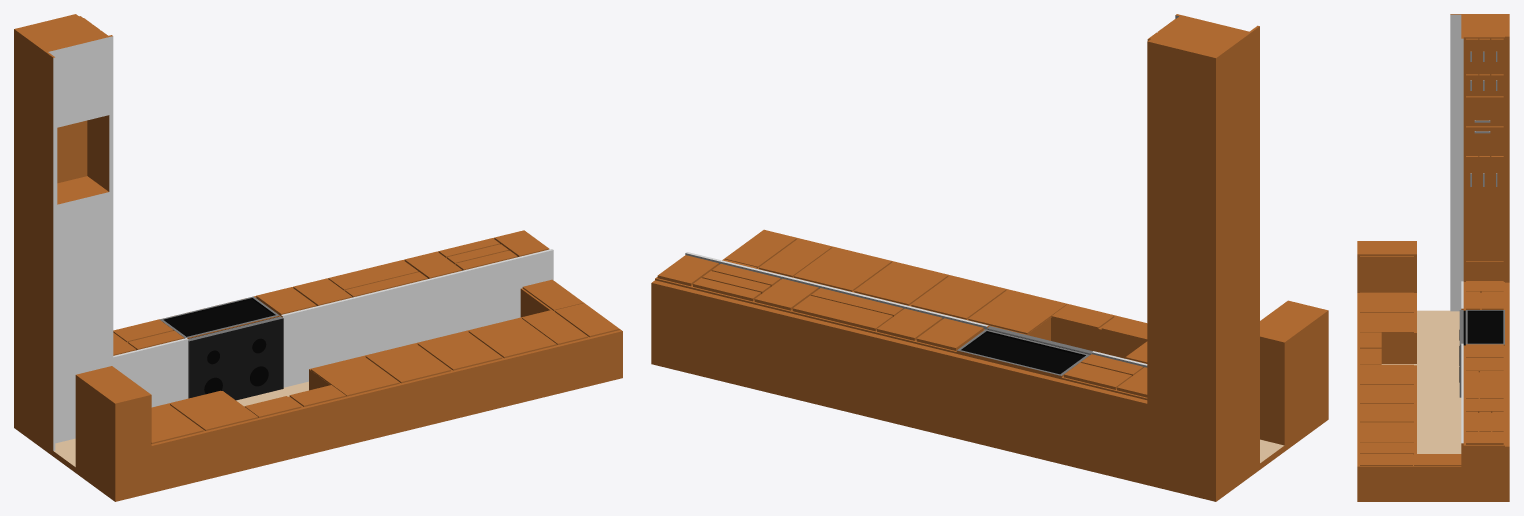
File: cabinets_0515.obj
3 views of the same model, side by side, from view 1: azimuth 30°, elevation 25°; view 2: azimuth 150°, elevation 25°; view 3: azimuth 270°, elevation 25° (orthographic). The views are drawn at different scales.
Visible parts, largest first — view 1: mesh32, mesh17, mesh31, mesh39, mesh2, mesh25, mesh66, mesh100, mesh48, mesh115, mesh93, mesh105 (+18 smaller); view 2: mesh28, mesh31, mesh34, mesh25, mesh66, mesh100, mesh115, mesh105, mesh67, mesh110, mesh27, mesh33 (+13 smaller); view 3: mesh30, mesh35, mesh175, mesh18, mesh60, mesh26, mesh25, mesh66, mesh44, mesh220, mesh229, mesh48 (+40 smaller).
Boxes of the visible parts, <box> form: mesh32: <box>115,331,622,501</box>; mesh17: <box>48,36,188,443</box>; mesh31: <box>14,29,115,501</box>; mesh39: <box>282,250,553,387</box>; mesh2: <box>189,318,283,400</box>; mesh25: <box>14,14,112,57</box>; mesh66: <box>165,299,273,336</box>; mesh100: <box>311,356,399,395</box>; mesh48: <box>170,391,257,429</box>; mesh115: <box>469,318,556,356</box>; mesh93: <box>151,285,622,445</box>; mesh105: <box>366,344,450,381</box>; mesh28: <box>651,41,1215,501</box>; mesh31: <box>1216,26,1328,501</box>; mesh34: <box>1260,336,1284,445</box>; mesh25: <box>1147,14,1259,57</box>; mesh66: <box>963,333,1084,374</box>; mesh100: <box>968,289,1066,332</box>; mesh115: <box>794,247,891,290</box>; mesh105: <box>911,276,1005,318</box>; mesh67: <box>1051,316,1147,358</box>; mesh110: <box>855,262,947,304</box>; mesh27: <box>652,280,1147,403</box>; mesh33: <box>1260,300,1327,342</box>; mesh30: <box>1357,443,1509,501</box>; mesh35: <box>1381,310,1461,453</box>; mesh175: <box>1463,37,1504,281</box>; mesh18: <box>1450,14,1461,311</box>; mesh60: <box>1360,256,1413,291</box>; mesh26: <box>1505,36,1509,282</box>; mesh25: <box>1450,14,1509,38</box>; mesh66: <box>1467,312,1503,343</box>; mesh44: <box>1360,332,1416,363</box>; mesh220: <box>1466,97,1503,126</box>; mesh229: <box>1466,127,1503,155</box>; mesh48: <box>1360,312,1413,331</box>.
Size of the model in its own units: 0.263 by 0.1975 by 0.0907.
